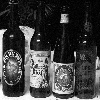beer: (1, 1, 26, 98)
